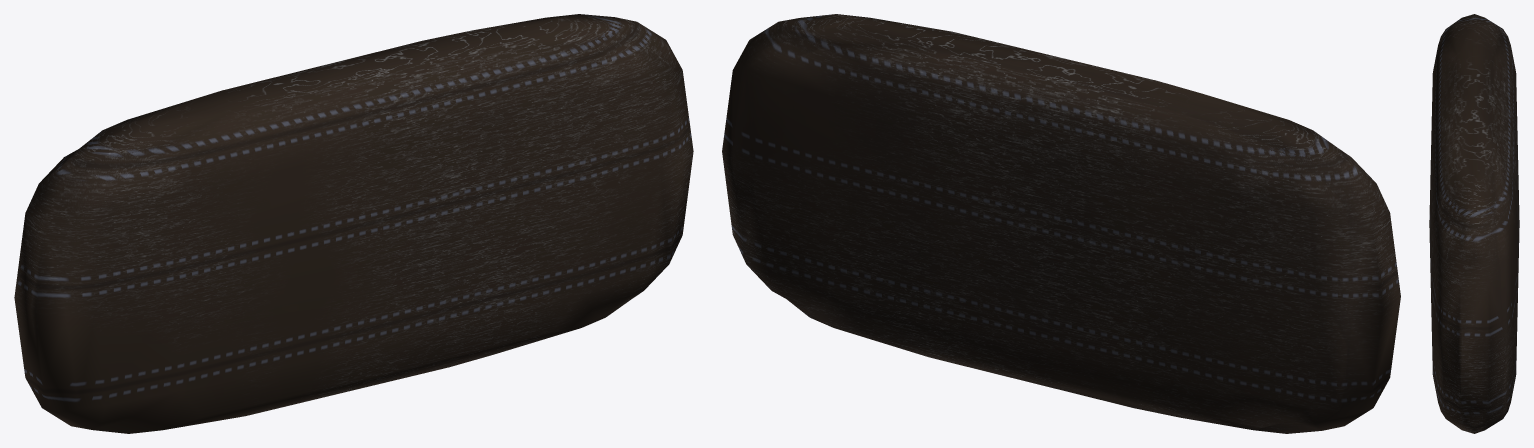
File: Remache_PiernaDer_Cuero.fbx
3 views of the same model, side by side, from view 1: azimuth 30°, elevation 25°; view 2: azimuth 150°, elevation 25°; view 3: azimuth 270°, elevation 25° (orthographic). The views are drawn at different scales.
Visible parts, largest first — view 1: Remache_PiernaDer_Cuero; view 2: Remache_PiernaDer_Cuero; view 3: Remache_PiernaDer_Cuero.
Part boxes in pixels (x1,y1,x2,y2): Remache_PiernaDer_Cuero: (14, 14, 693, 433); Remache_PiernaDer_Cuero: (722, 14, 1400, 433); Remache_PiernaDer_Cuero: (1429, 14, 1519, 433).
Size of the model in its own units: 1.41 by 0.6429 by 0.2143.
